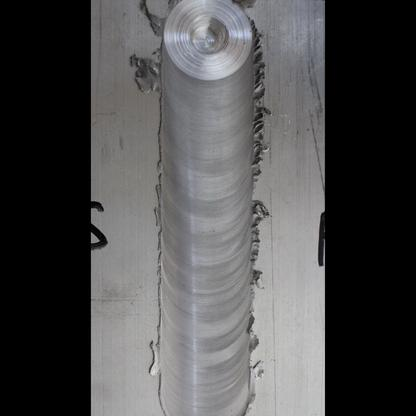flash: (244, 18, 276, 181), (248, 197, 275, 379), (152, 153, 171, 293), (121, 47, 163, 106), (142, 333, 160, 377)
keyhole: (156, 1, 261, 80)
